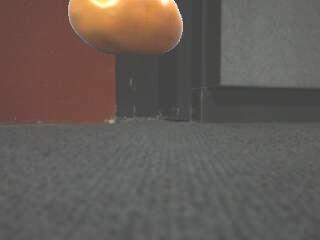Potato: (67, 0, 184, 57)
